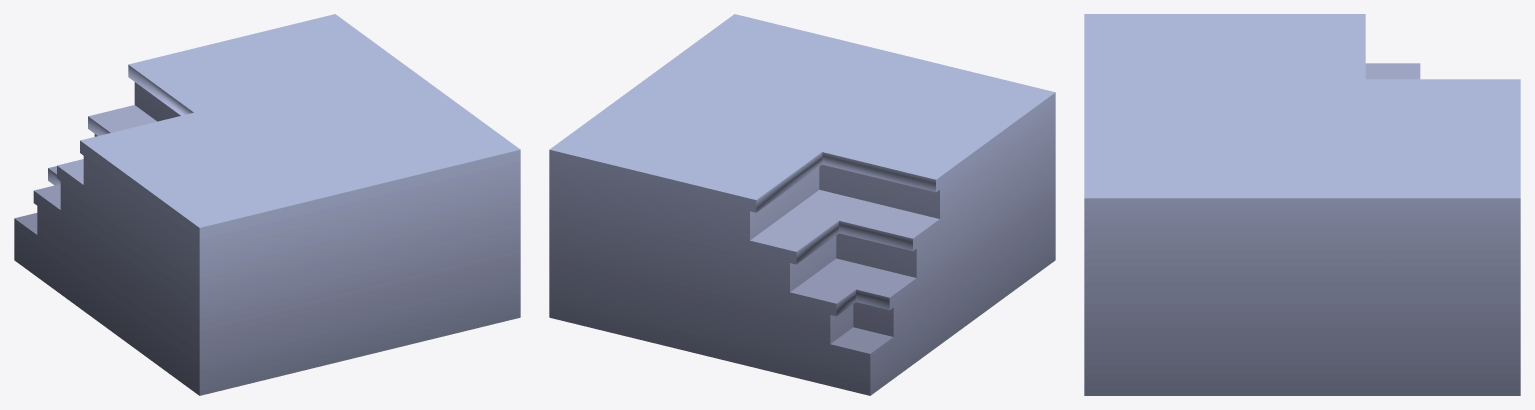
The model's file is stairs-full-corner-inner.glb.
3 views of the same model, side by side, from view 1: azimuth 30°, elevation 25°; view 2: azimuth 150°, elevation 25°; view 3: azimuth 270°, elevation 25° (orthographic). The views are drawn at different scales.
Parts seen in each view (by area): view 1: stairs-full-corner-inner; view 2: stairs-full-corner-inner; view 3: stairs-full-corner-inner.
Boxes of the visible parts, x1,y1,x2,y2 form: stairs-full-corner-inner: [14, 14, 520, 395]; stairs-full-corner-inner: [549, 14, 1055, 395]; stairs-full-corner-inner: [1084, 14, 1520, 395].
Bounding box in the file's own units: 1 × 0.5001 × 1.
1 material, 1 textured.
